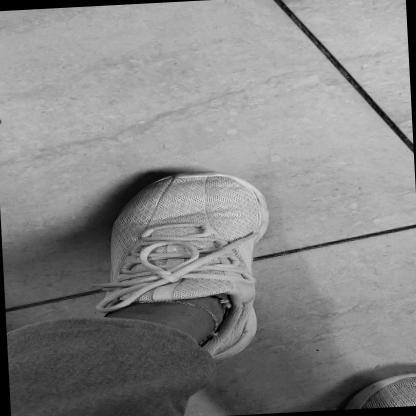ankle: (233, 307, 241, 314)
heel: (217, 354, 229, 360)
left_foot: (104, 169, 279, 368)
pinky: (138, 197, 152, 202)
toe: (234, 187, 246, 192)
